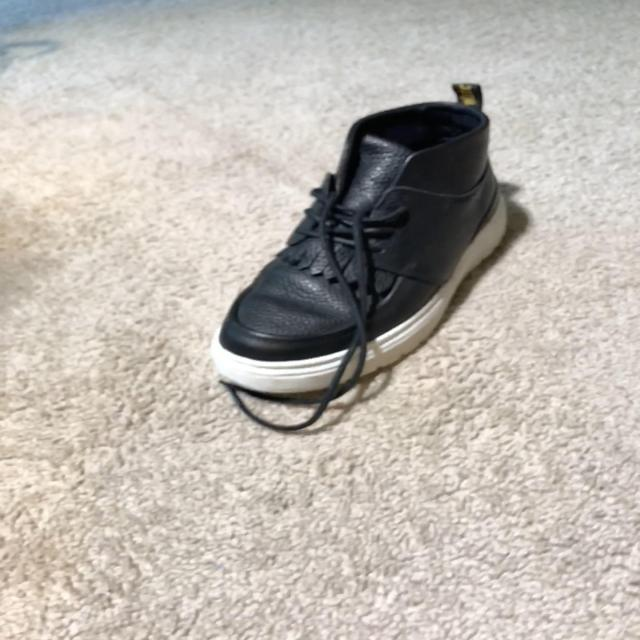shoe: (213, 84, 518, 437)
